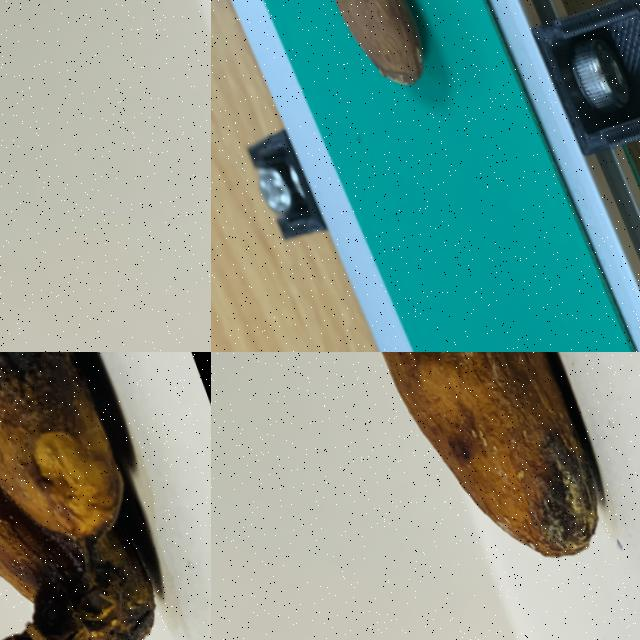Agglomerated_cocoabeans: (0, 352, 210, 639)
Fine_cocoabeans: (268, 352, 639, 639), (115, 0, 210, 351), (275, 0, 460, 112)
